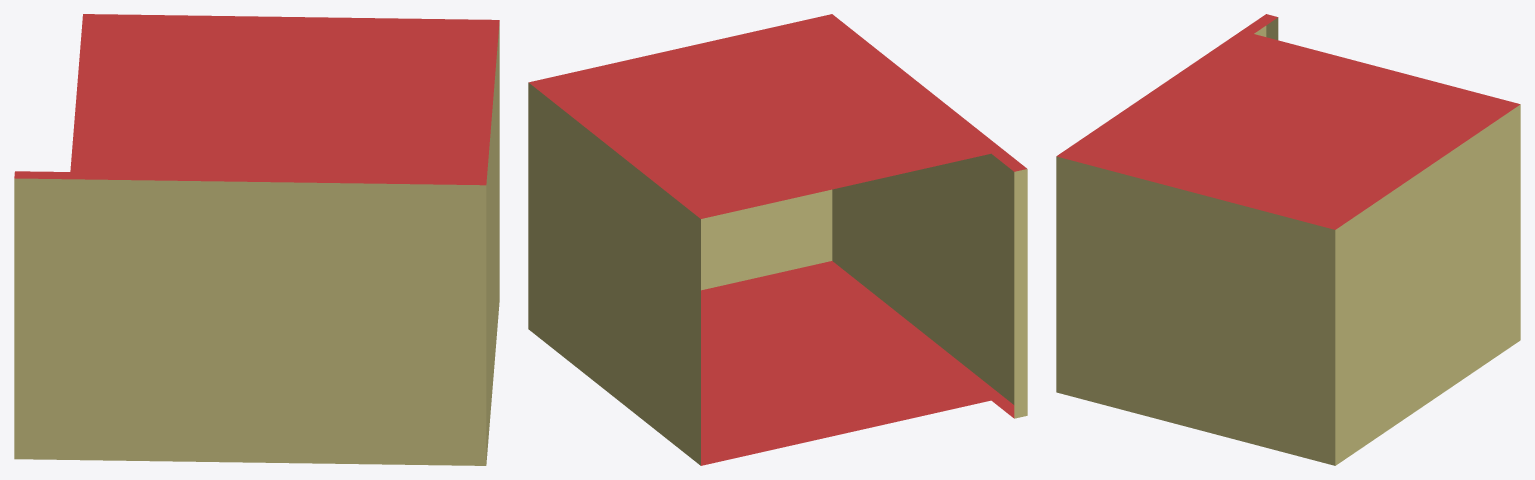
The picture shows the model from 3 angles, left to right: view 1: azimuth 30°, elevation 25°; view 2: azimuth 150°, elevation 25°; view 3: azimuth 270°, elevation 25°; orthographic projection. The views are drawn at different scales.
Size of the model in its own units: 9.78 by 8.89 by 4.98.
